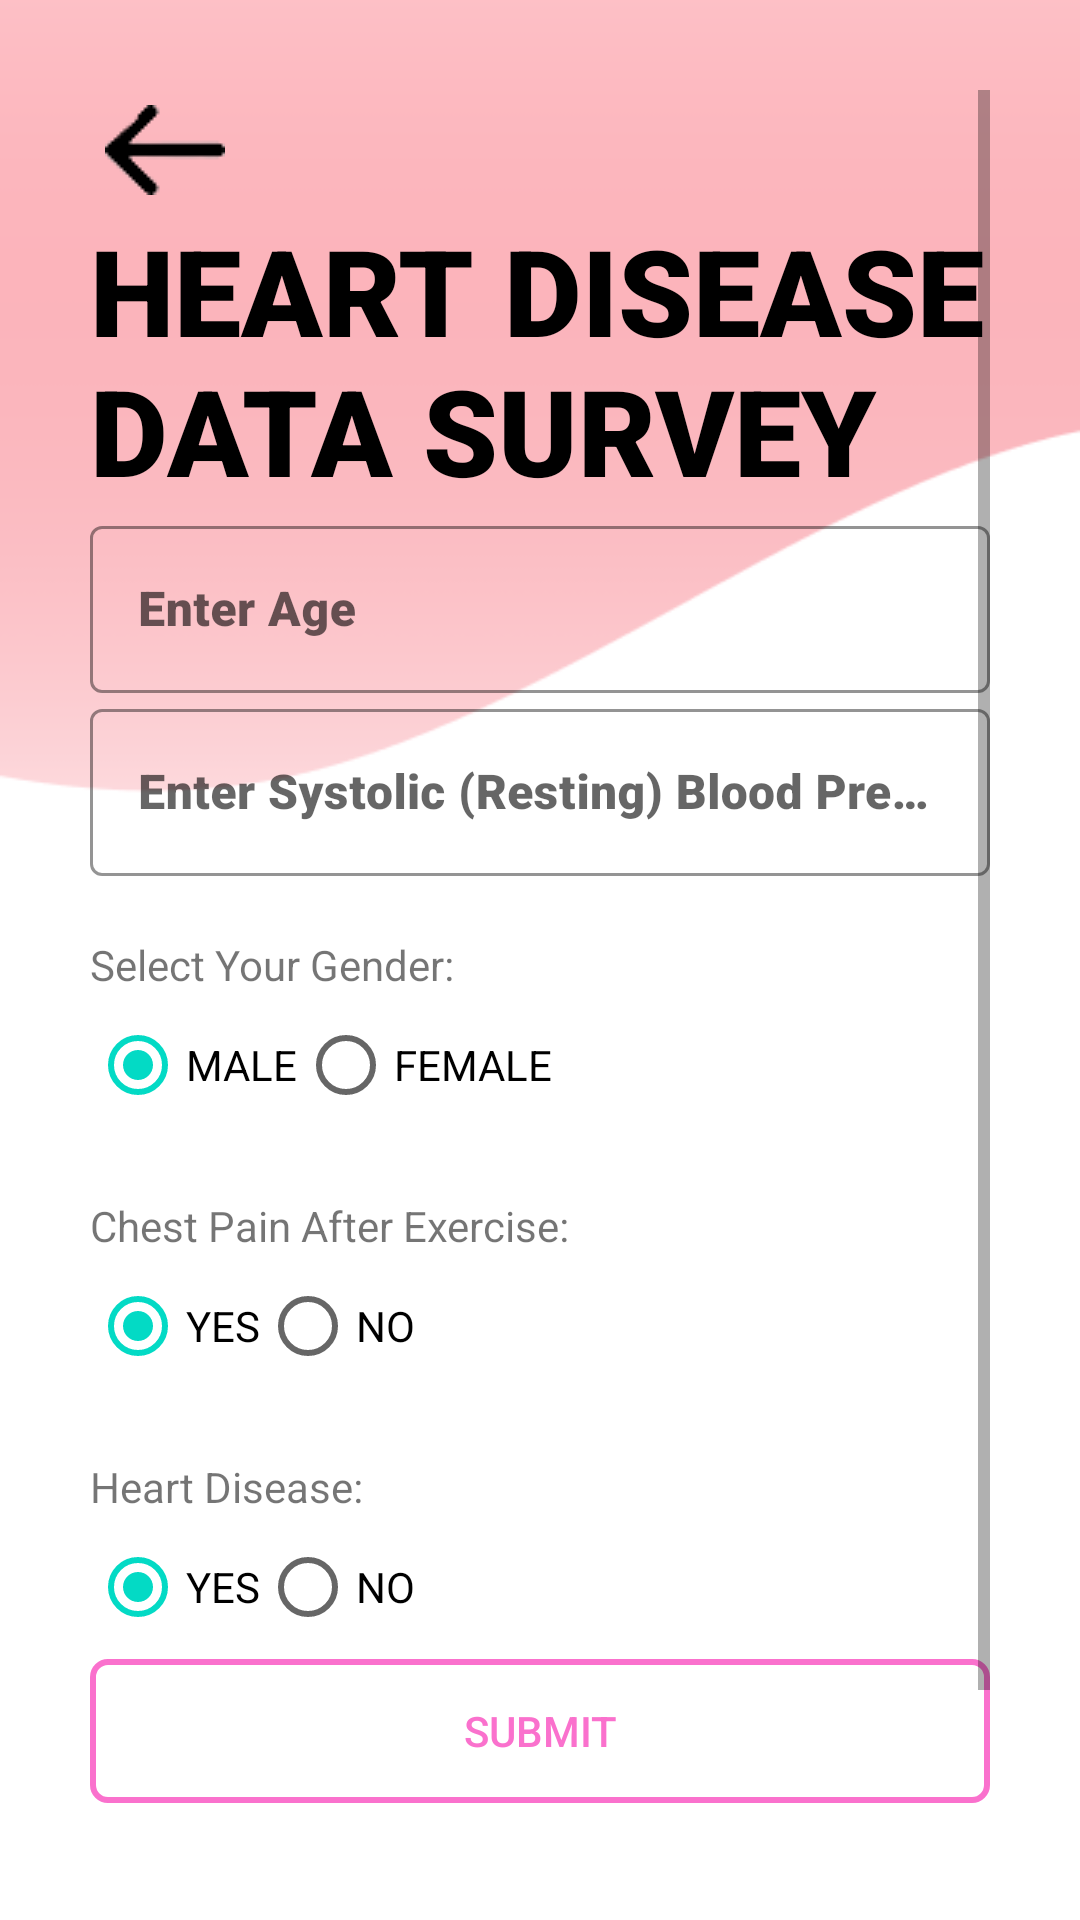

Icons on this 1080px x 1920px Android screen, each with the point to tap as [x,y]:
back: [165,150]
